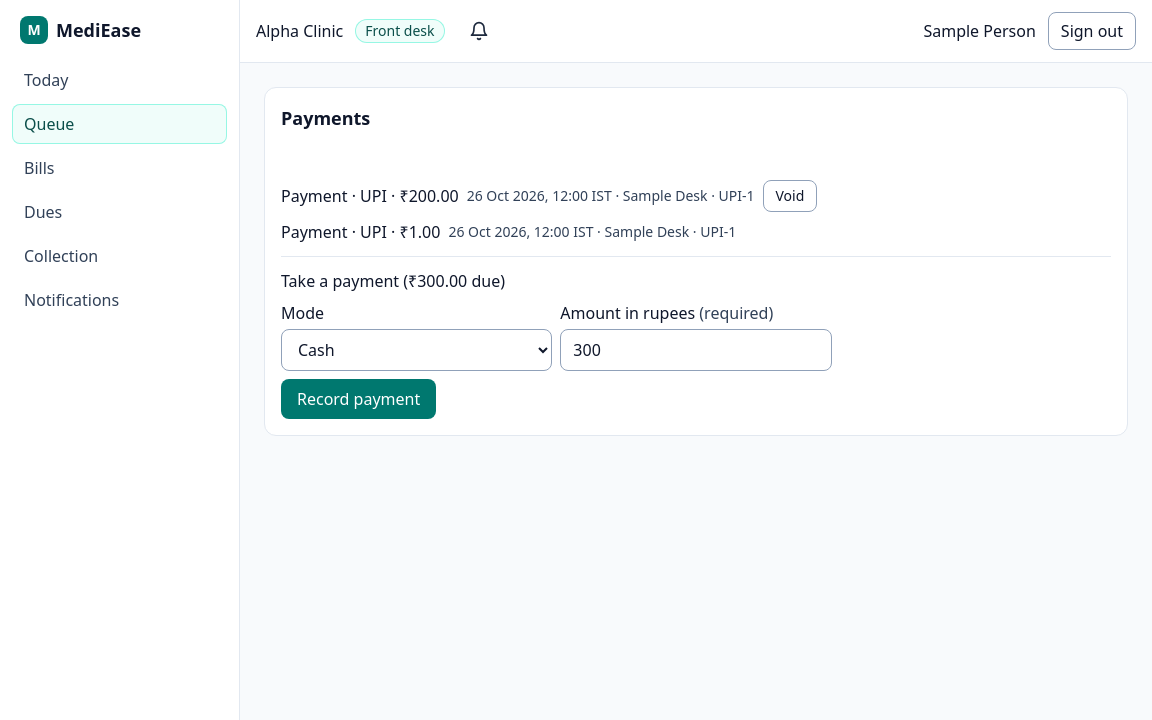
Test case: payments on a bill (M6d-P3, billing R31-R36) › AC11: voids today's payment with a reason; an older one has no Void
The image size is (1152, 720).
Click the button named "Void the ₹200.00 payment": [790, 196] box [762, 180, 817, 212]
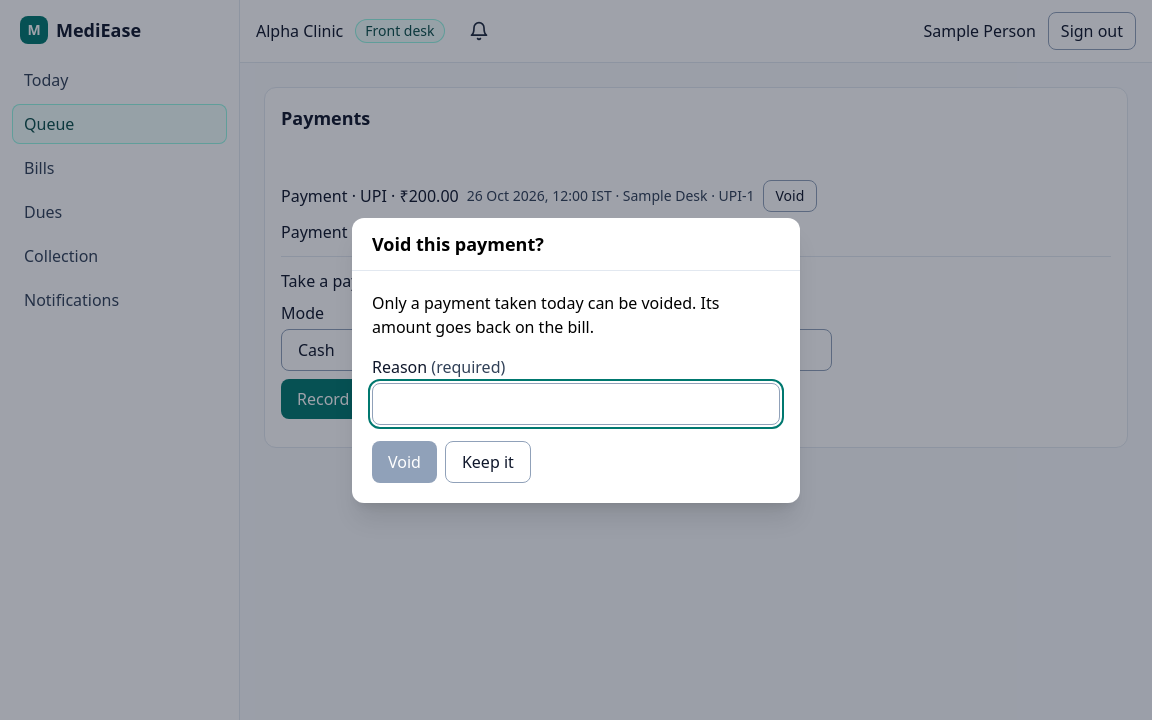
In the field labelled "Reason (required)": [576, 404] box [372, 382, 780, 424], type "Wrong amount"
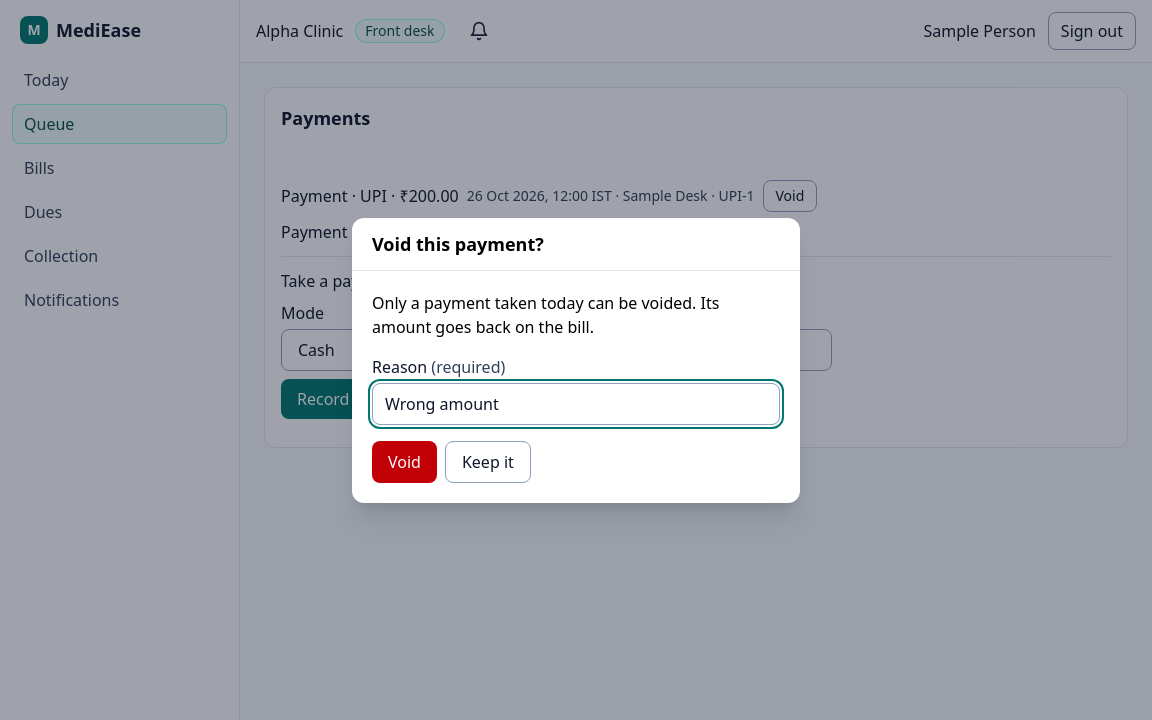
Click the button "Void": [404, 462] box [372, 440, 437, 482]
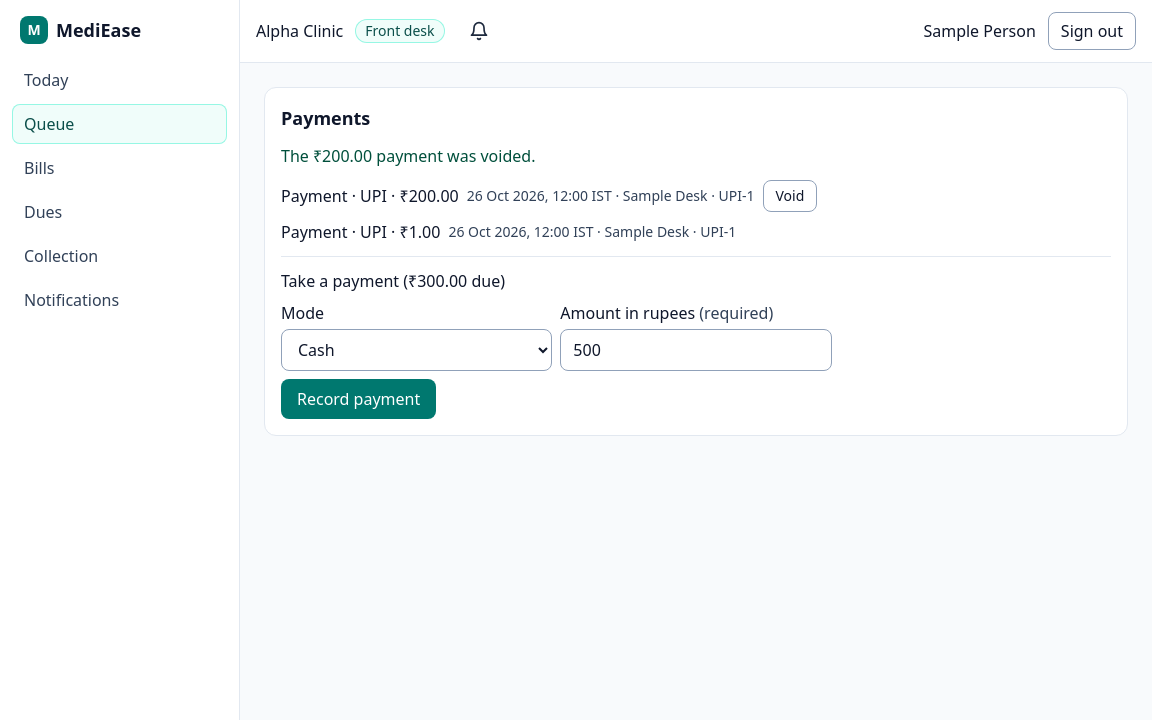
Result: the text "The ₹200.00 payment was voided." is shown at [281, 145, 535, 167]
